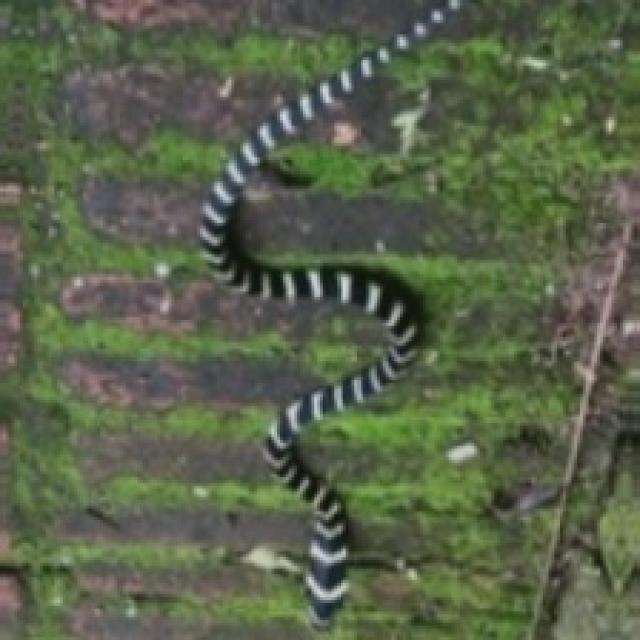king cobra: (200, 0, 637, 620), (197, 0, 460, 626)
